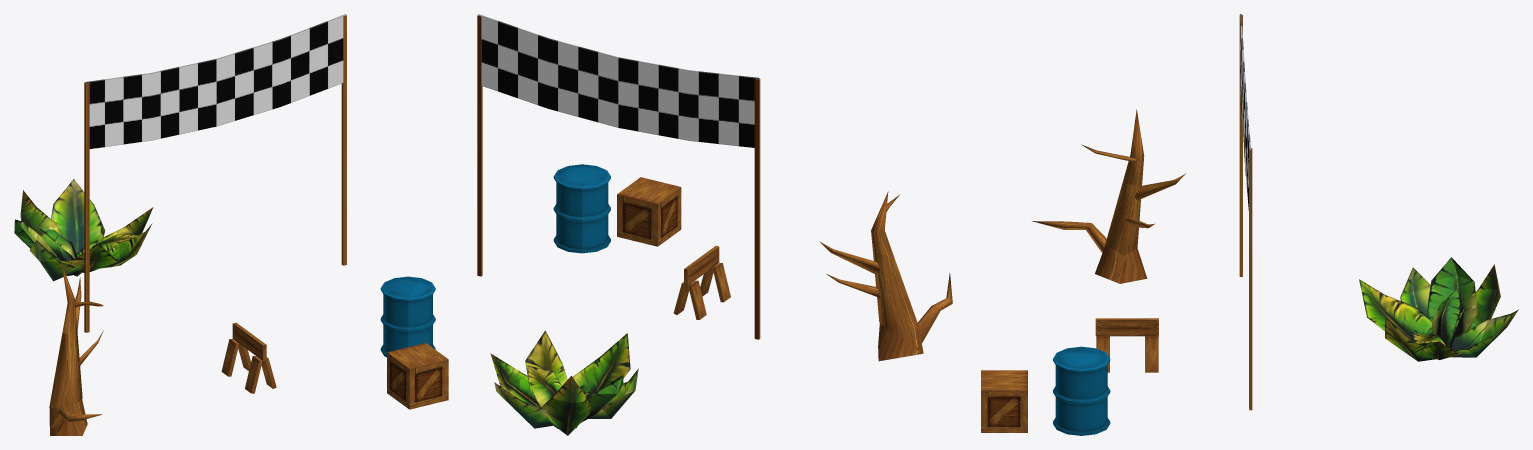
File: props(2).FBX
3 views of the same model, side by side, from view 1: azimuth 30°, elevation 25°; view 2: azimuth 150°, elevation 25°; view 3: azimuth 270°, elevation 25° (orthographic). The views are drawn at different scales.
Parts seen in each view (by area): view 1: banner_props, bush_2, props, Stump_2, box_2, bush_1, drum_2, drum_1, box_1, Stump_3, Stump_1, barrier_2 (+3 smaller); view 2: banner_props, bush_2, props, bush_1, Stump_2, drum_3, drum_2, Stump_3, box_3, box_2, box_1, Stump_1 (+3 smaller); view 3: bush_2, bush_1, drum_1, Stump_2, Stump_3, props, drum_3, box_2, barrier_1, box_1, Stump_1, banner_props (+2 smaller).
Boxes of the visible parts, box(x1,y1,x2,y2) form: banner_props: box(85, 14, 346, 148); bush_2: box(14, 179, 153, 275); props: box(84, 15, 346, 332); Stump_2: box(49, 277, 103, 408); box_2: box(387, 343, 448, 409); bush_1: box(29, 234, 140, 281); drum_2: box(380, 282, 408, 357); drum_1: box(408, 278, 435, 349); box_1: box(393, 343, 448, 382); Stump_3: box(49, 399, 102, 435); Stump_1: box(62, 264, 103, 335); barrier_2: box(245, 356, 276, 393); banner_props: box(478, 14, 759, 147); bush_2: box(490, 330, 623, 435); props: box(477, 15, 760, 339); bush_1: box(527, 333, 638, 418); Stump_2: box(819, 241, 919, 331); drum_3: box(553, 170, 603, 253); drum_2: box(582, 170, 610, 253); Stump_3: box(878, 273, 952, 361); box_3: box(617, 203, 671, 246); box_2: box(617, 194, 681, 236); box_1: box(617, 177, 681, 225); Stump_1: box(871, 191, 899, 257); bush_2: box(1385, 257, 1518, 361); bush_1: box(1359, 267, 1445, 346); drum_1: box(1053, 352, 1095, 435); Stump_2: box(1105, 173, 1185, 255); Stump_3: box(1032, 221, 1147, 283); props: box(1239, 14, 1252, 410); drum_3: box(1060, 352, 1110, 433); box_2: box(981, 370, 1027, 432); barrier_1: box(1095, 318, 1158, 336); box_1: box(981, 370, 1027, 403); Stump_1: box(1081, 109, 1144, 185); banner_props: box(1240, 14, 1251, 210).
Bounding box in the file's own units: 913 × 675 × 1097.
